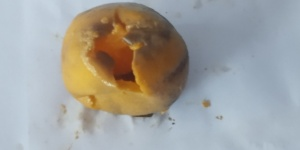BAD: (56, 3, 188, 117)
